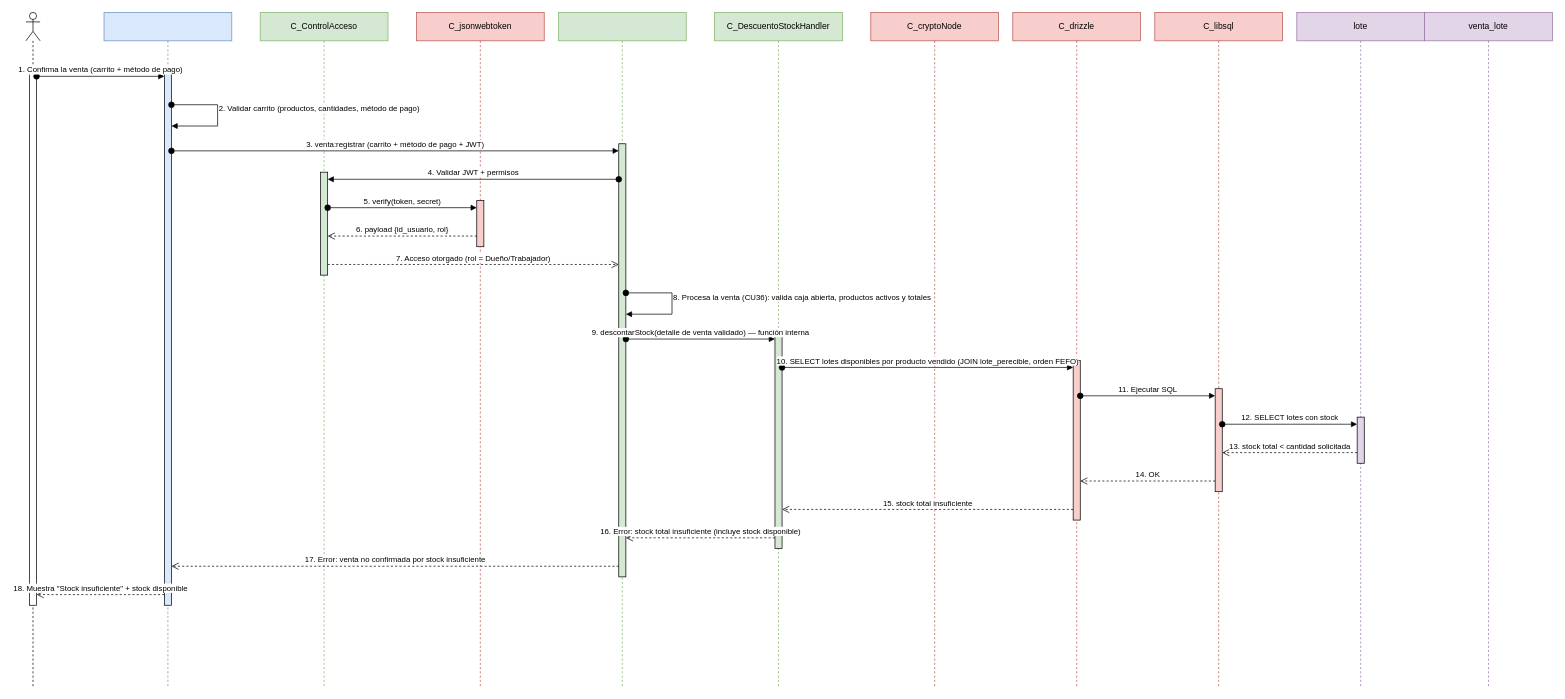
The diagram is 1565 pixels wide and 699 high, and some of its shapes have lost their labels. The box of each missing label's shape, as (x1, y1, x2, y2) in pixels:
C_VentaHandler: (558, 12, 686, 687)
Dueño / Trabajador: (25, 12, 40, 687)
V_RegistrarVentaView: (103, 12, 232, 687)
